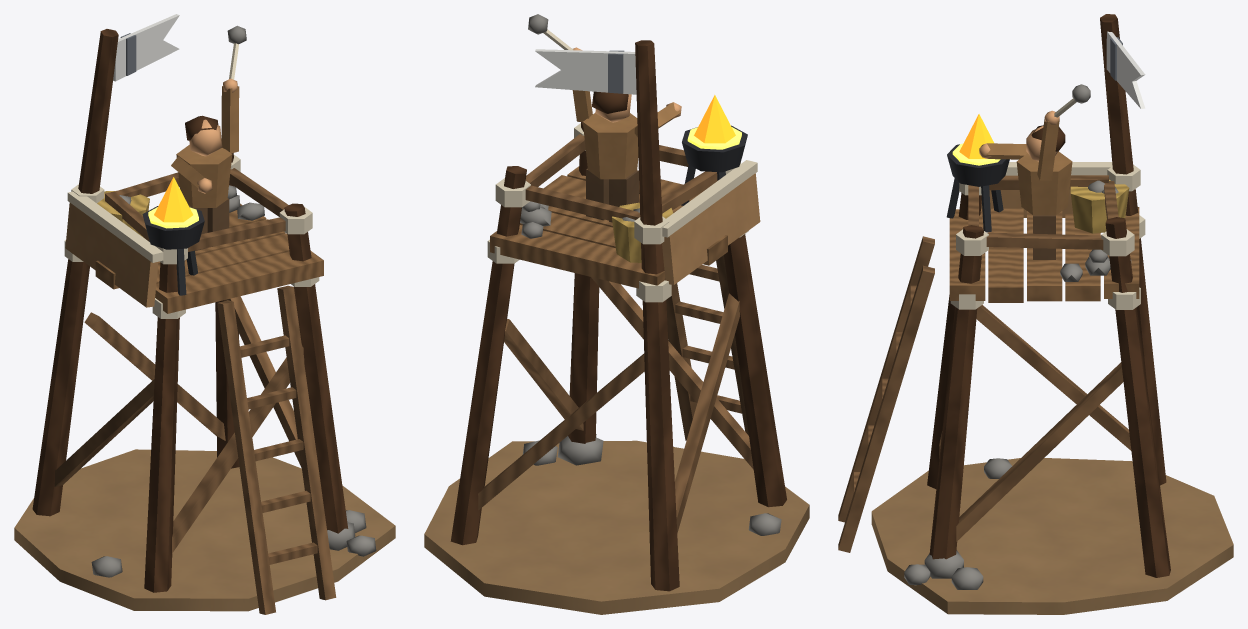
Rendered from tower_l1.glb.
3 renders of one model, left to right at view 1: azimuth 30°, elevation 25°; view 2: azimuth 150°, elevation 25°; view 3: azimuth 270°, elevation 25°, orthographic. The views are drawn at different scales.
Visible parts, largest first — view 1: tower_l1; view 2: tower_l1; view 3: tower_l1.
Part boxes in pixels (box(x1,y1,x2,y2)): tower_l1: box(14, 14, 395, 614); tower_l1: box(424, 14, 809, 614); tower_l1: box(838, 14, 1233, 614).
Size of the model in its own units: 0.4458 by 0.7115 by 0.5132.
3 materials, 1 textured.
